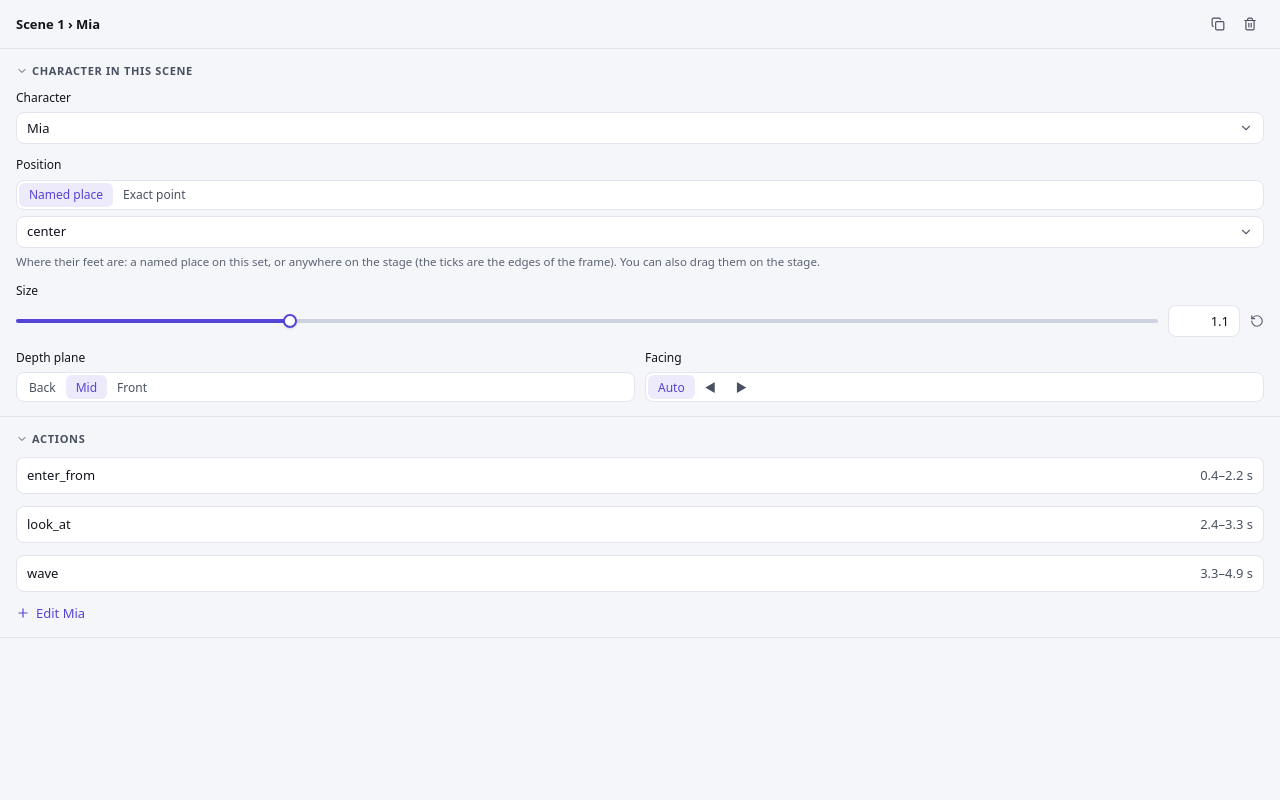
Scenario: placing a character with sliders › has a slider across and one down, beside the numbers, once the place is a point
This screenshot has width=1280, height=800.
Click the radio button labelled "Exact point" at (154, 195), box top-left (113, 183), bottom-right (196, 207)
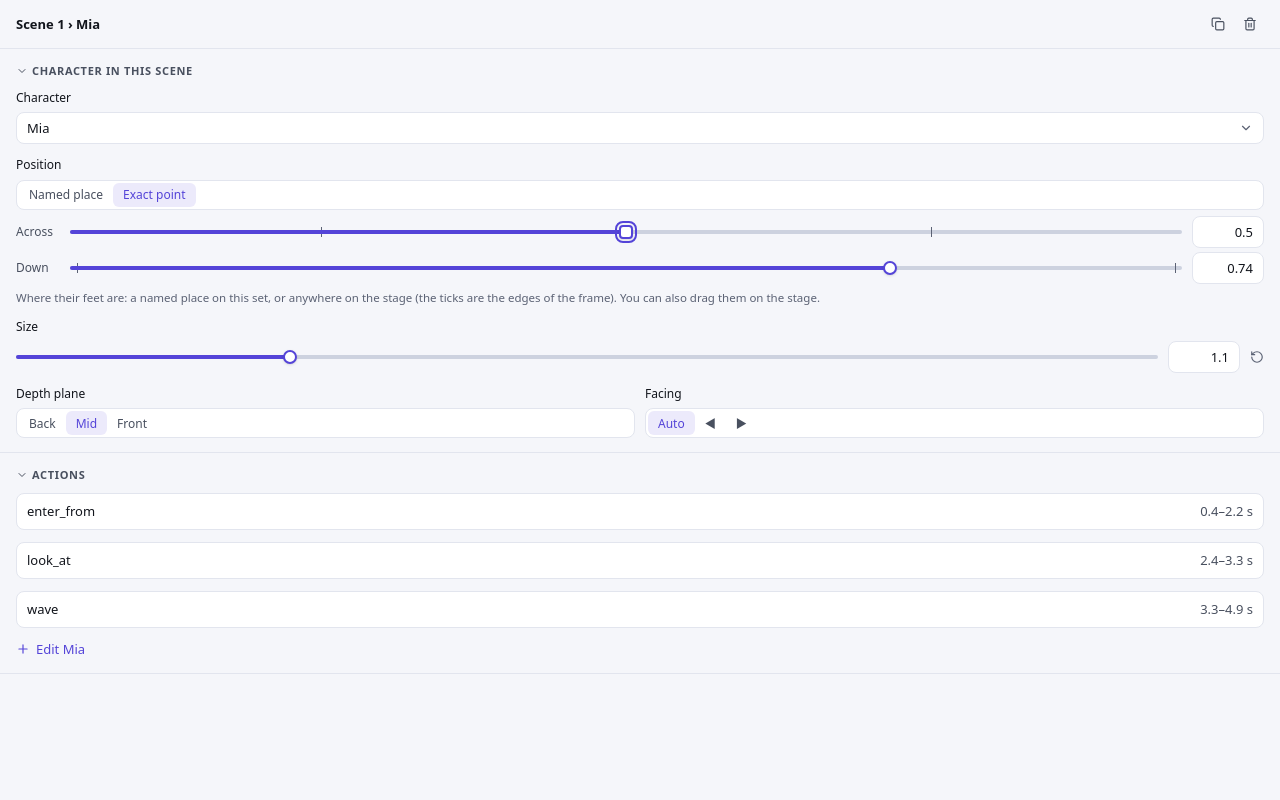
Press ArrowRight in the slider named "Position x", box top-left (619, 225), bottom-right (633, 239)
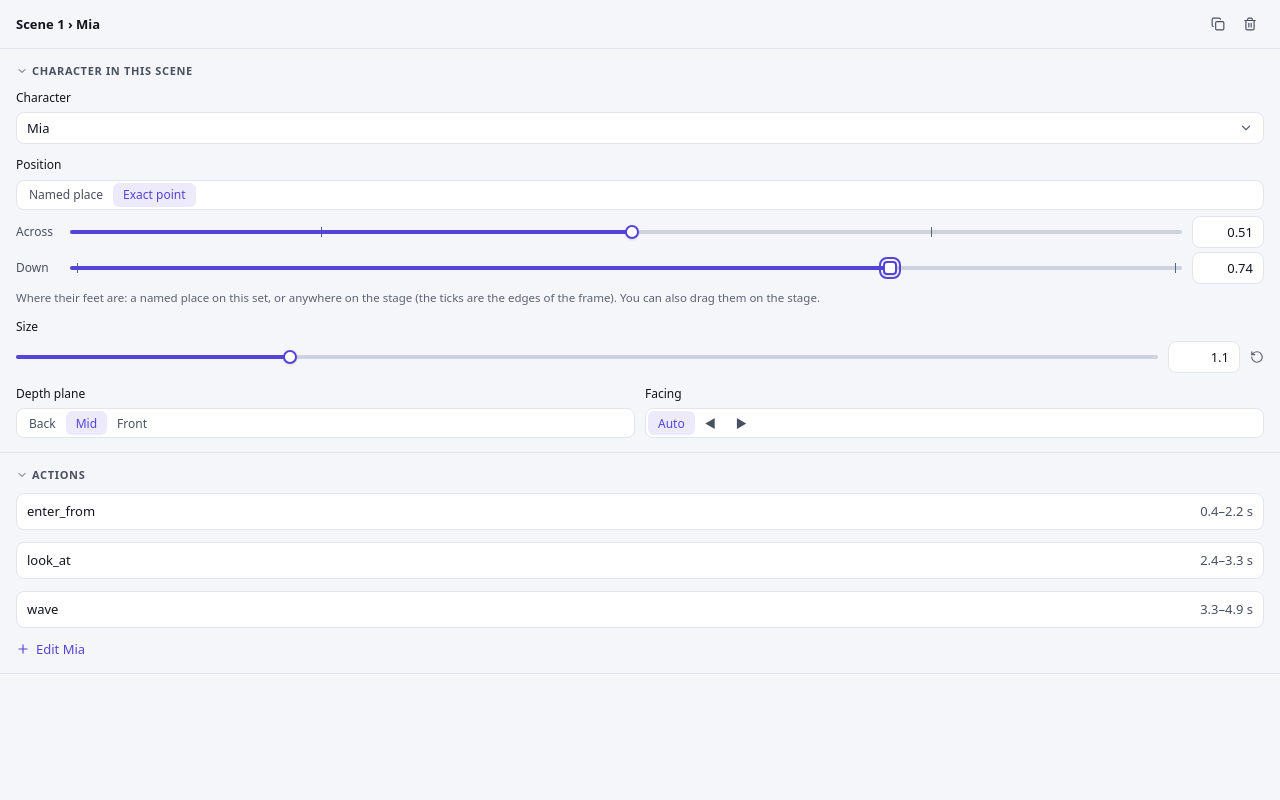
Press ArrowLeft in the slider named "Position y", box top-left (882, 261), bottom-right (896, 275)
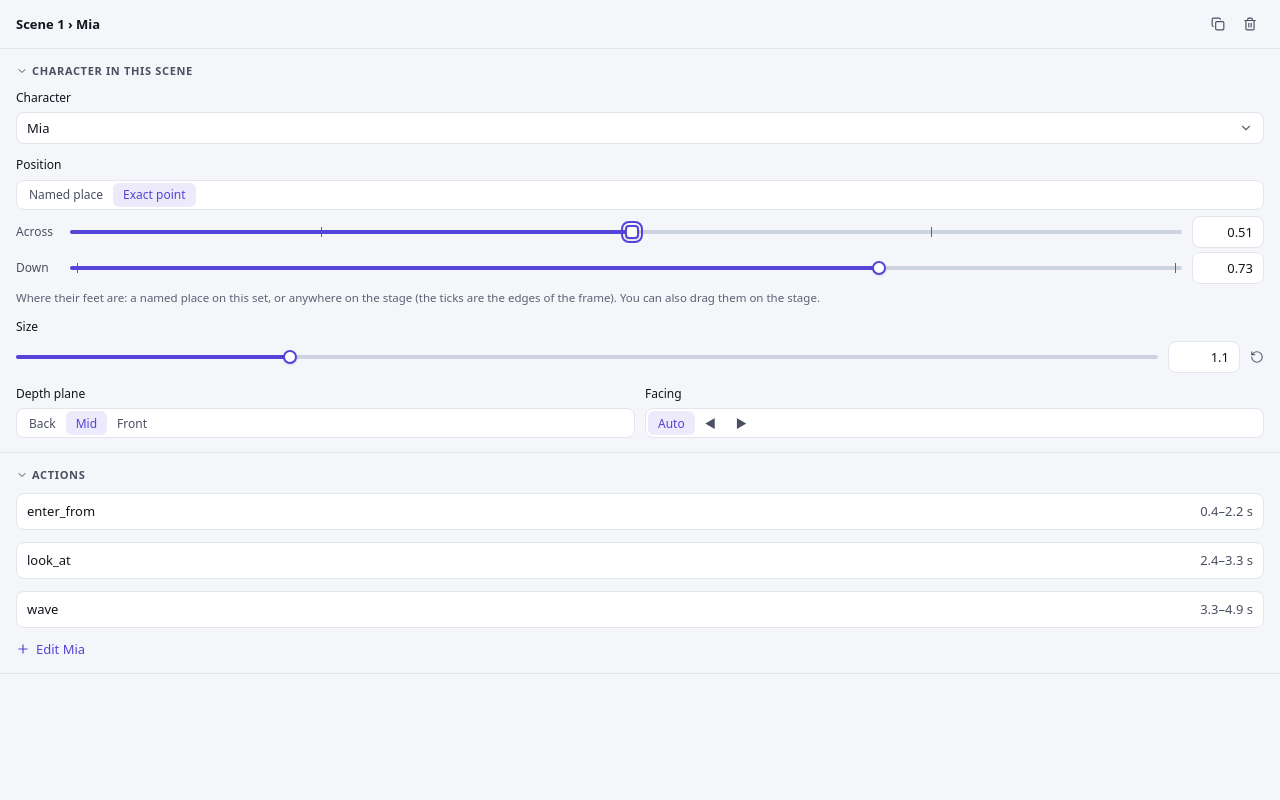
Press Home in the slider named "Position x", box top-left (625, 225), bottom-right (639, 239)
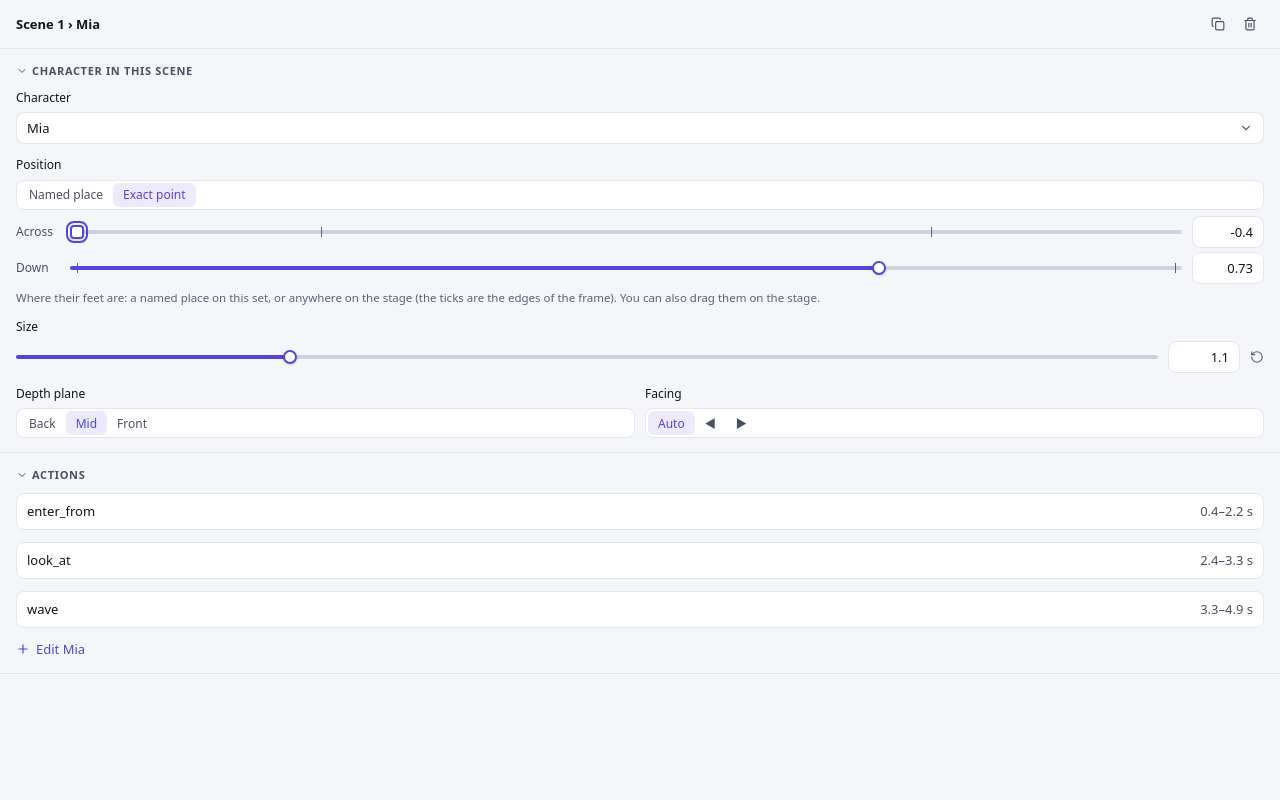
Press End in the slider named "Position x", box top-left (70, 225), bottom-right (84, 239)
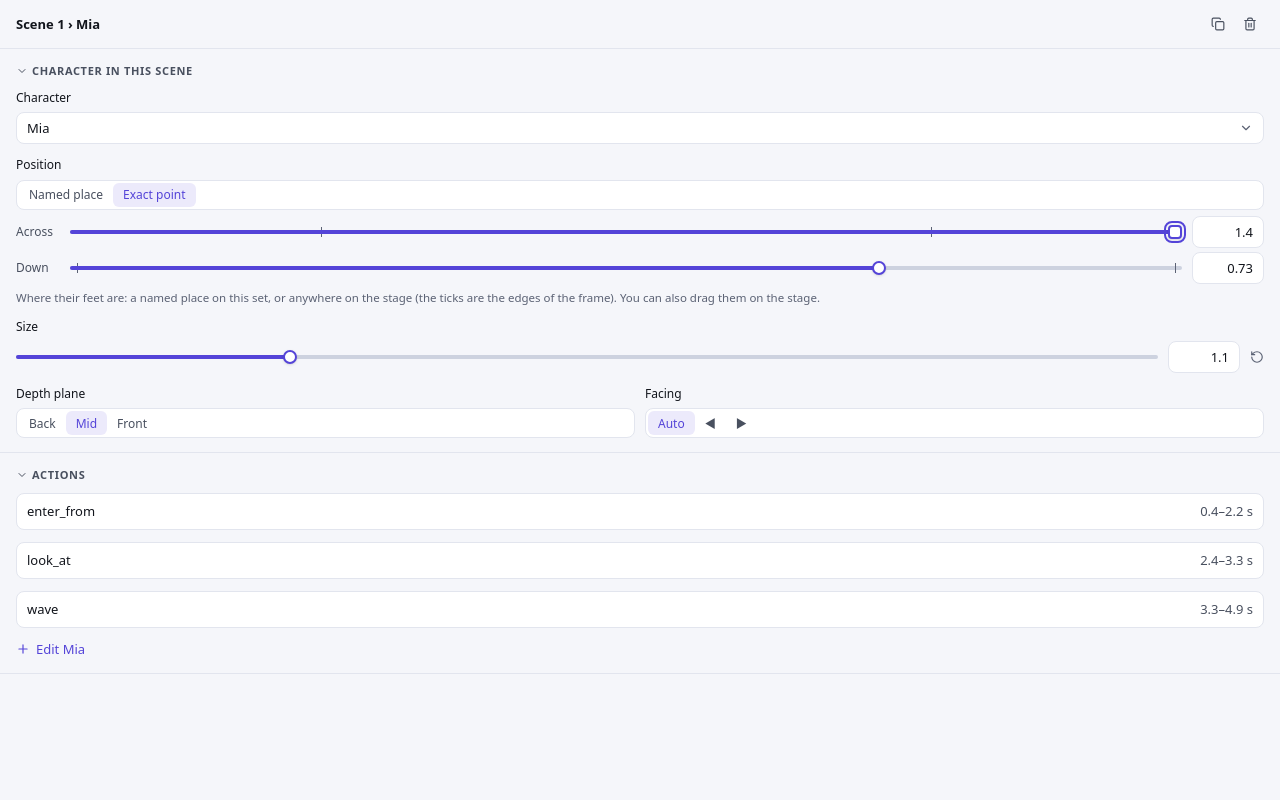
Expected: the field named "Position x" holds "1.4", top-left (1192, 216), bottom-right (1264, 248)
